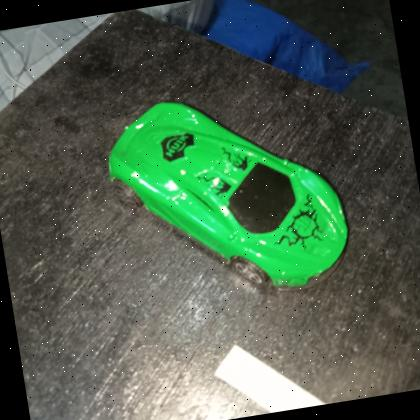Car: (108, 102, 350, 289)
